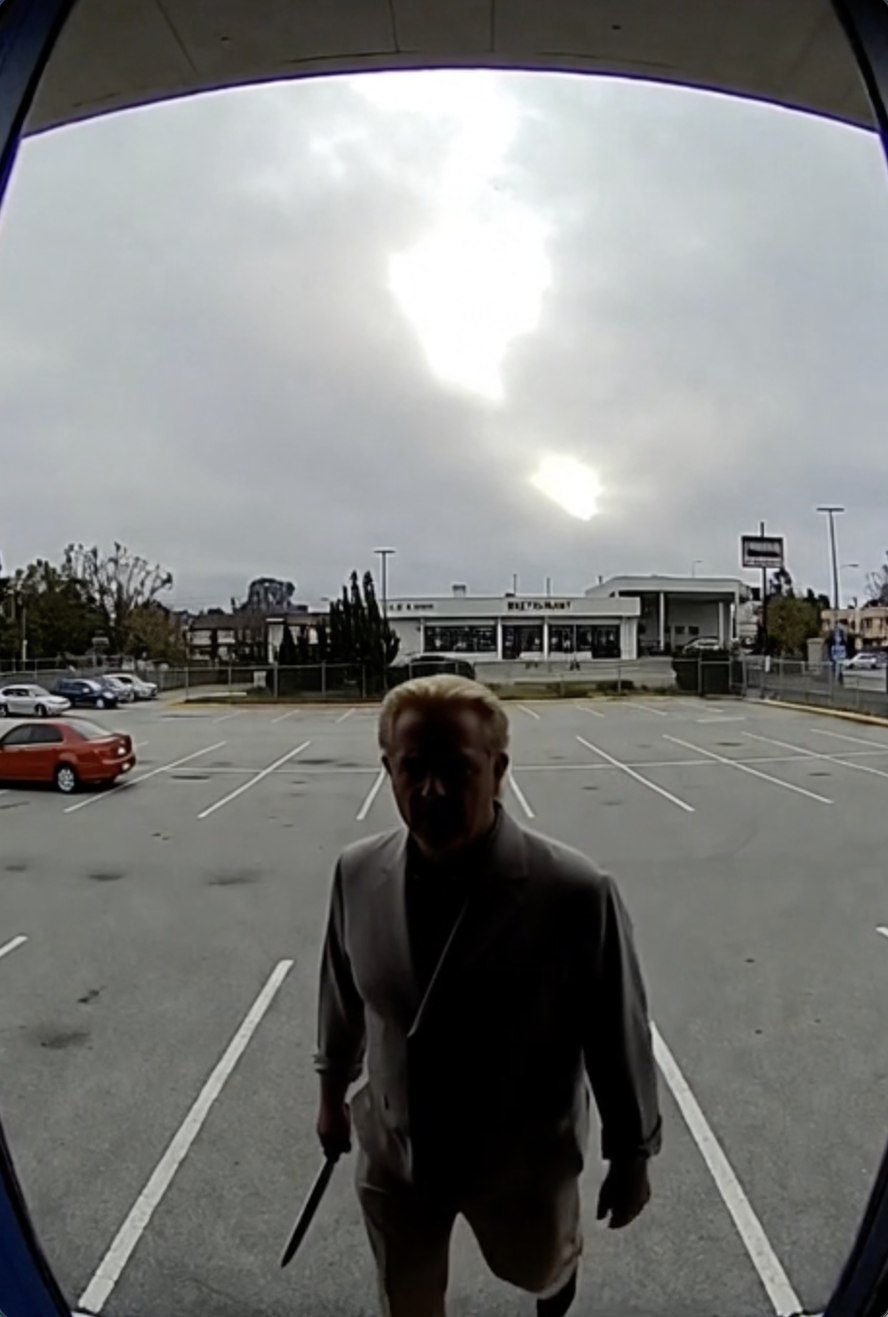Heavy Gun: (313, 674, 661, 1317)
Knife: (272, 1093, 358, 1272)
